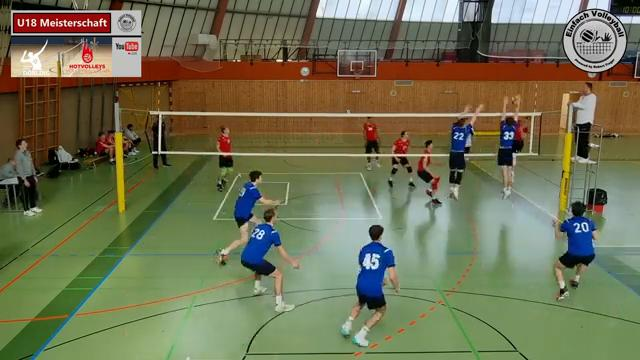Attack: (510, 112, 531, 195)
Block: (446, 99, 489, 202), (494, 94, 525, 203)
Player: (341, 225, 399, 346), (215, 170, 280, 264), (241, 208, 298, 312), (553, 201, 597, 299), (388, 131, 415, 188), (417, 140, 441, 204), (217, 126, 232, 191), (363, 117, 379, 170), (464, 126, 474, 153)
ball: (512, 94, 522, 105)
